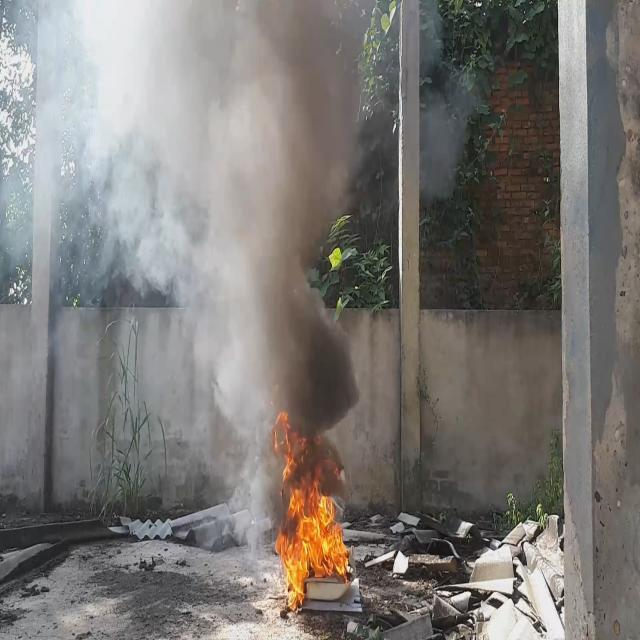Fire: (270, 406, 356, 612)
Smoke: (0, 0, 481, 548)
